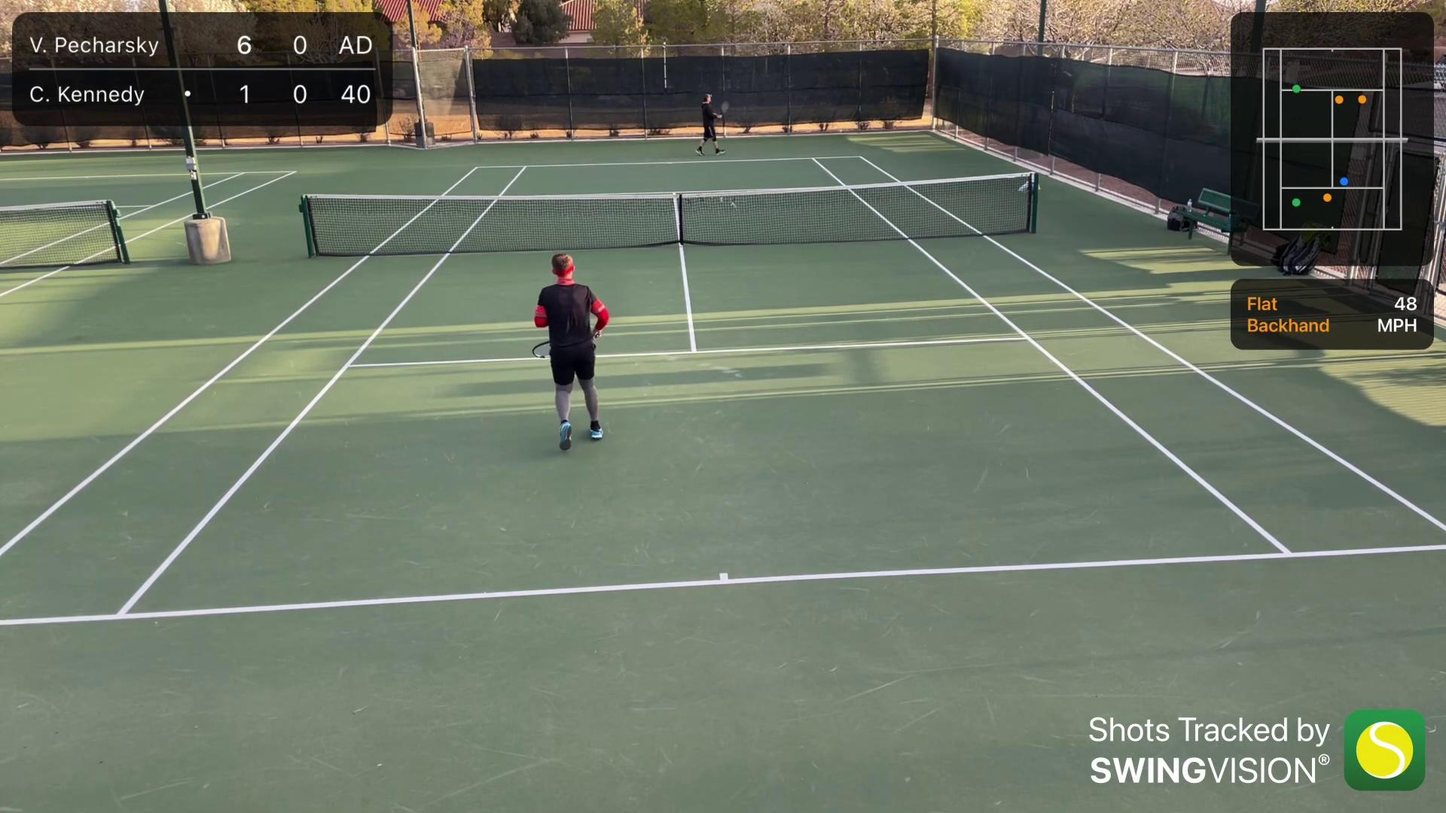ball: (837, 127, 844, 134)
